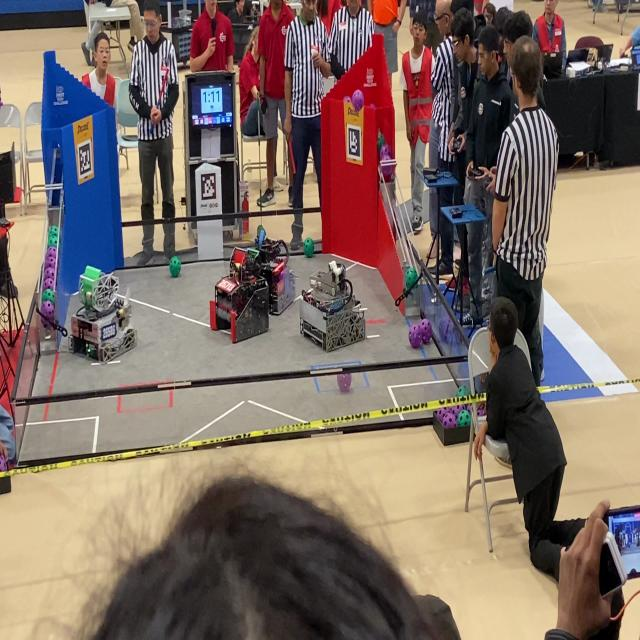artifact_green: (439, 314, 453, 344), (405, 267, 418, 290), (169, 256, 181, 277), (457, 410, 471, 427), (377, 130, 385, 154), (304, 238, 314, 257), (257, 229, 266, 249), (42, 289, 54, 303), (87, 344, 97, 359), (457, 386, 470, 397), (48, 235, 58, 246), (48, 236, 58, 247), (48, 236, 58, 246), (48, 235, 58, 245), (48, 237, 57, 247), (257, 225, 264, 237), (48, 226, 58, 234), (49, 226, 58, 234), (48, 232, 58, 238)
artifact_purple: (439, 316, 453, 343), (408, 324, 422, 349), (337, 373, 352, 393), (420, 319, 432, 343), (441, 412, 457, 429), (352, 90, 364, 112), (41, 302, 54, 322), (436, 408, 450, 423), (380, 144, 392, 160), (380, 144, 391, 159), (45, 256, 56, 270), (453, 405, 464, 419), (0, 455, 8, 471), (45, 267, 55, 279), (43, 279, 54, 289), (46, 247, 56, 258), (477, 406, 486, 417), (461, 404, 472, 412), (42, 319, 50, 329), (477, 403, 485, 411), (344, 96, 351, 103), (370, 103, 376, 109)
